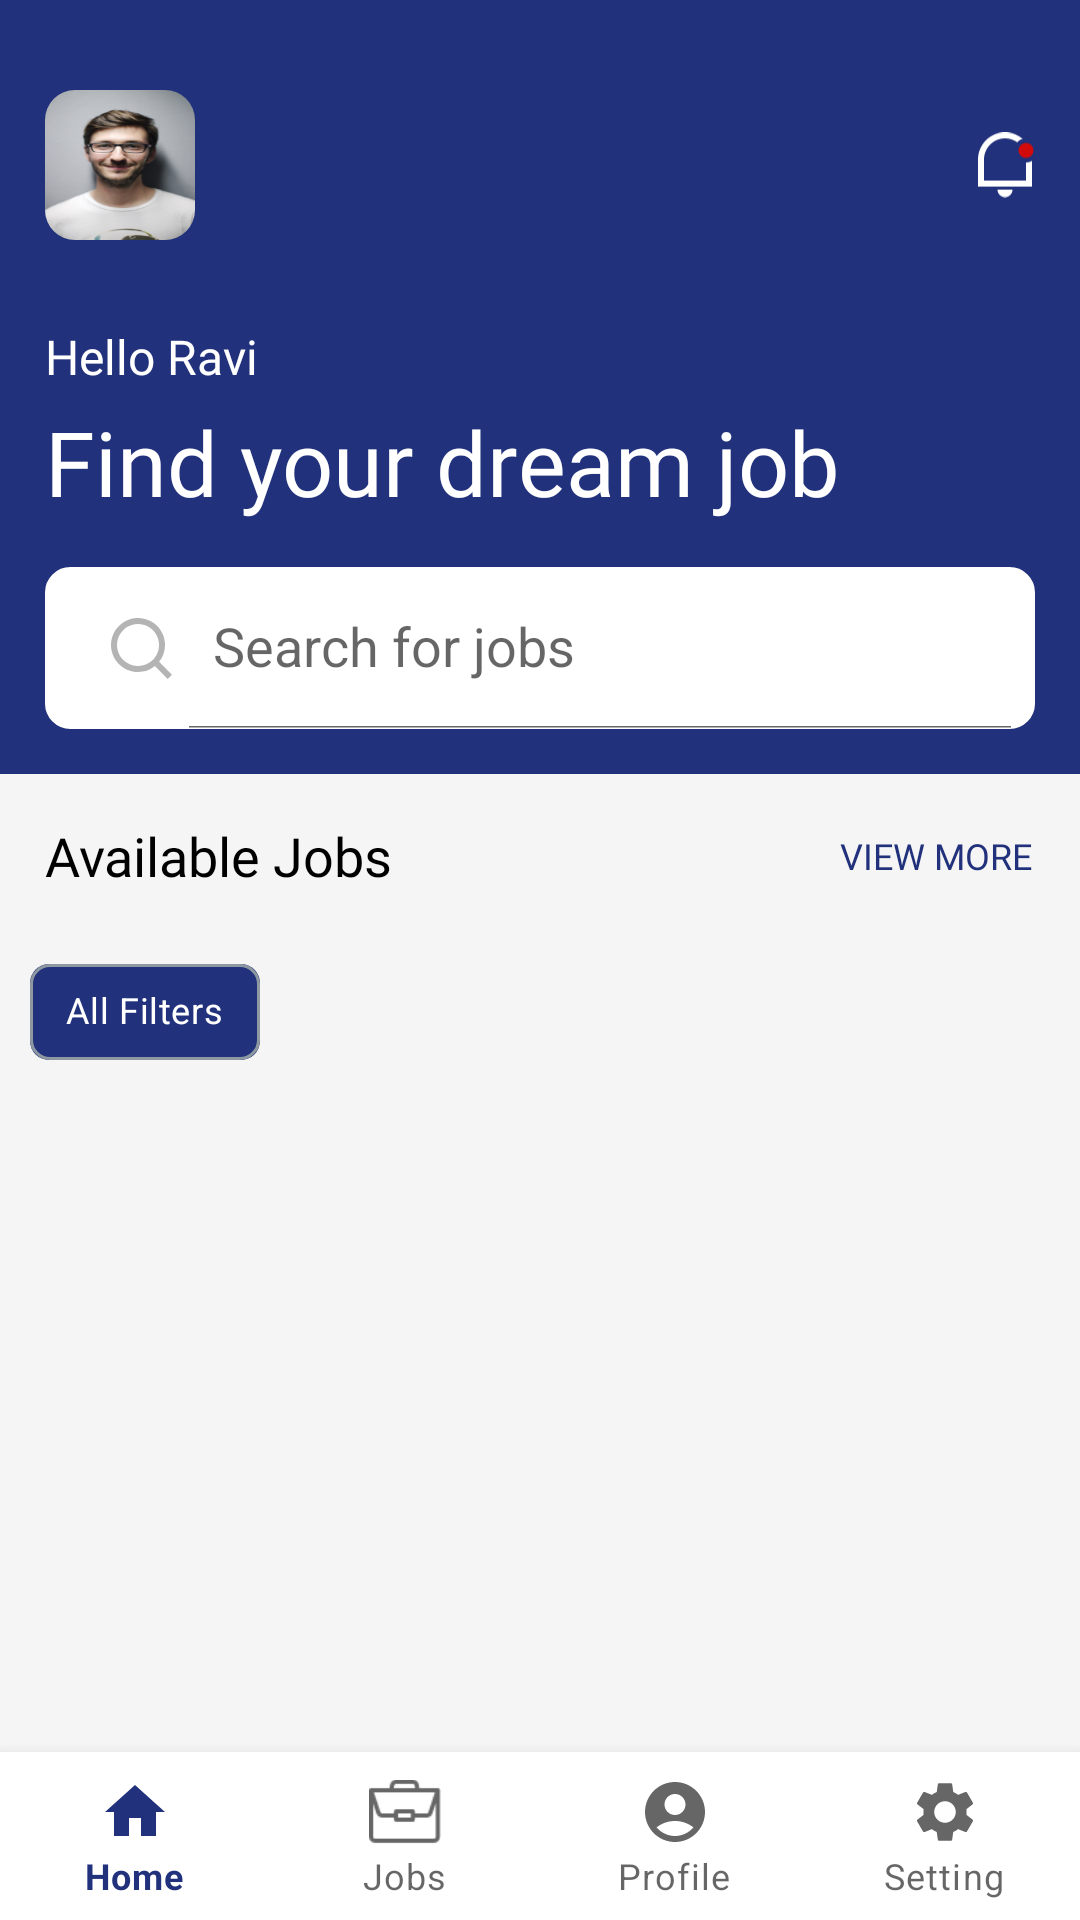

Screen size 1080w x 1920h. Icon name, then its box in pixels as (x1, y1, x2, y2):
notification: (978, 132, 1034, 198)
